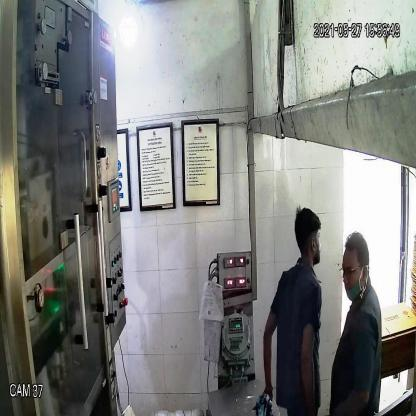goggles: (340, 259, 364, 281)
